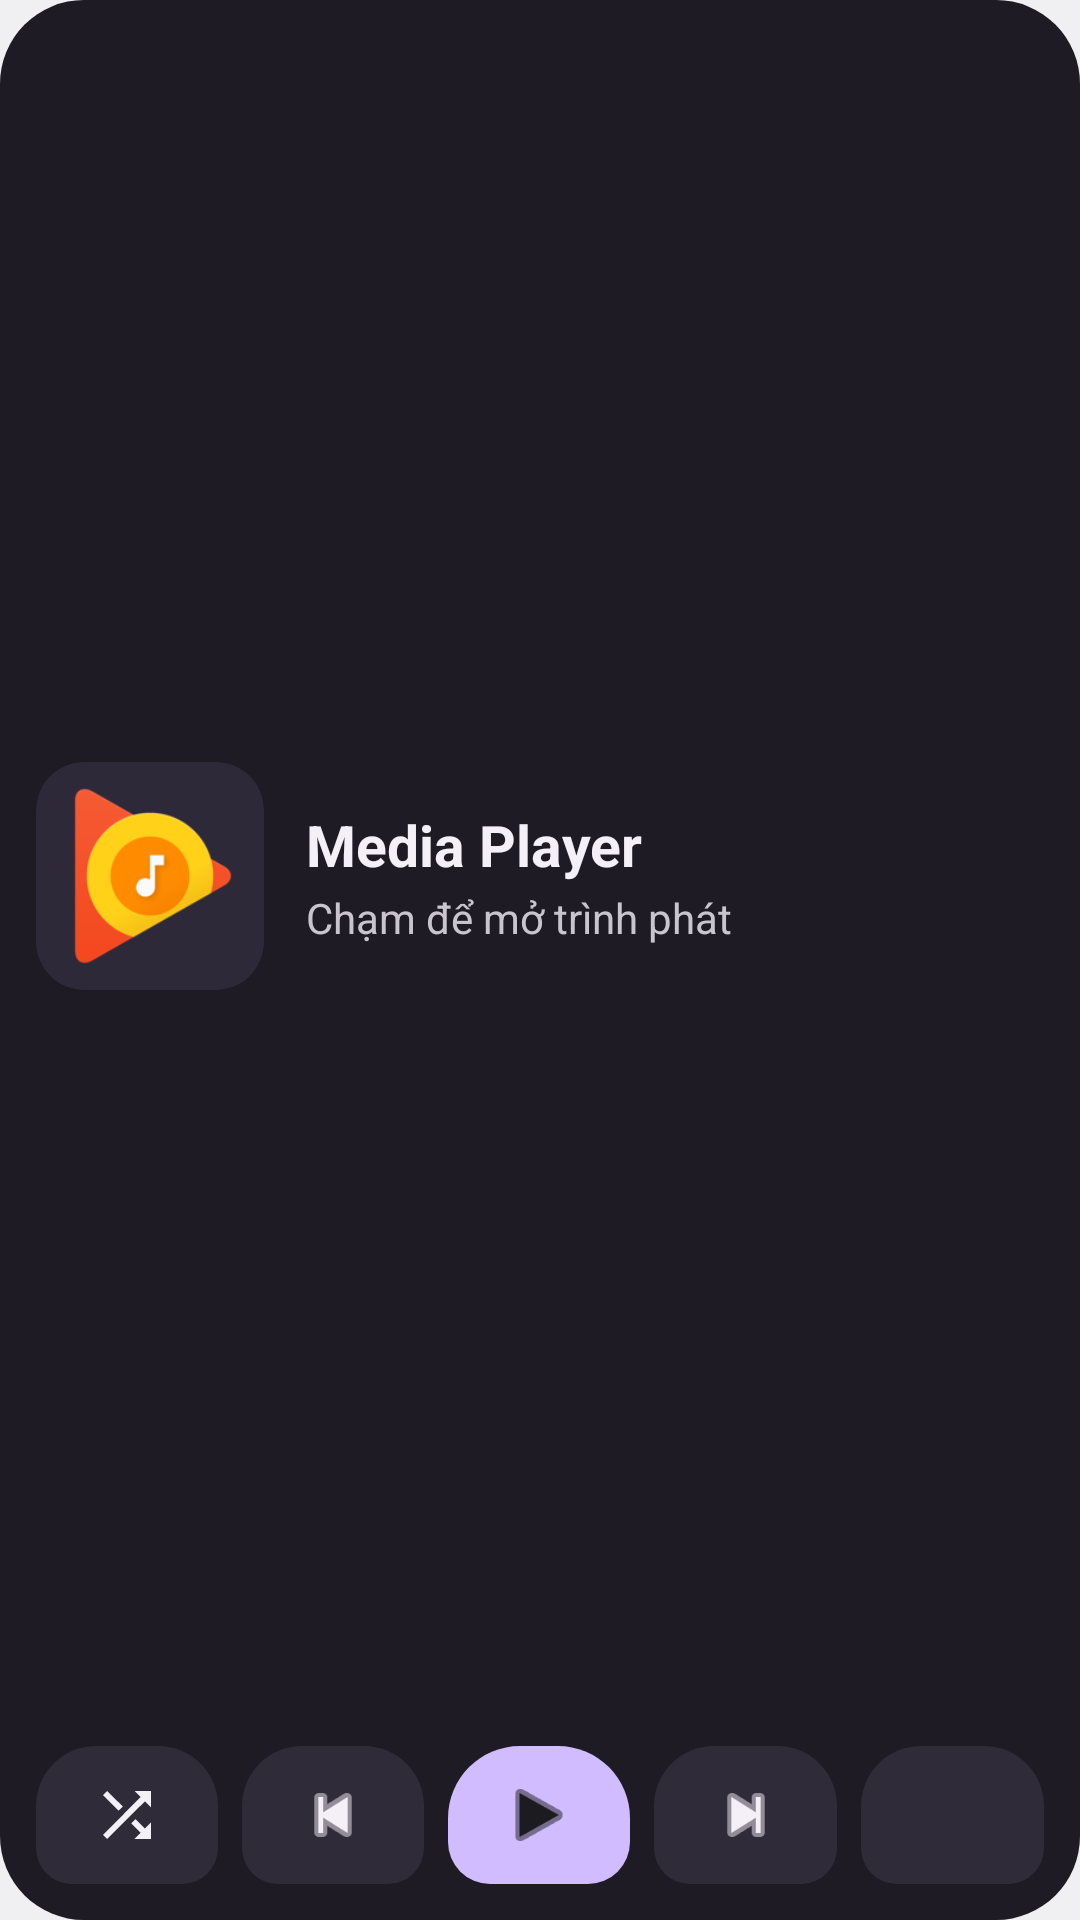

Icons on this 1080w x 1920h Android screen, each with its box as (x1, y1, x2, y2):
Next: (727, 1793, 765, 1837)
Play or Pause: (448, 1746, 630, 1884)
Previous: (314, 1793, 352, 1837)
Shuffle: (36, 1746, 218, 1884)
